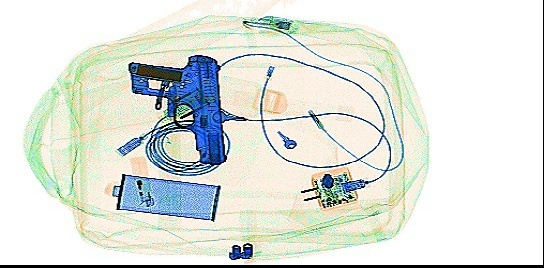lighter: (125, 151, 157, 209)
zippooil: (104, 171, 219, 220)
